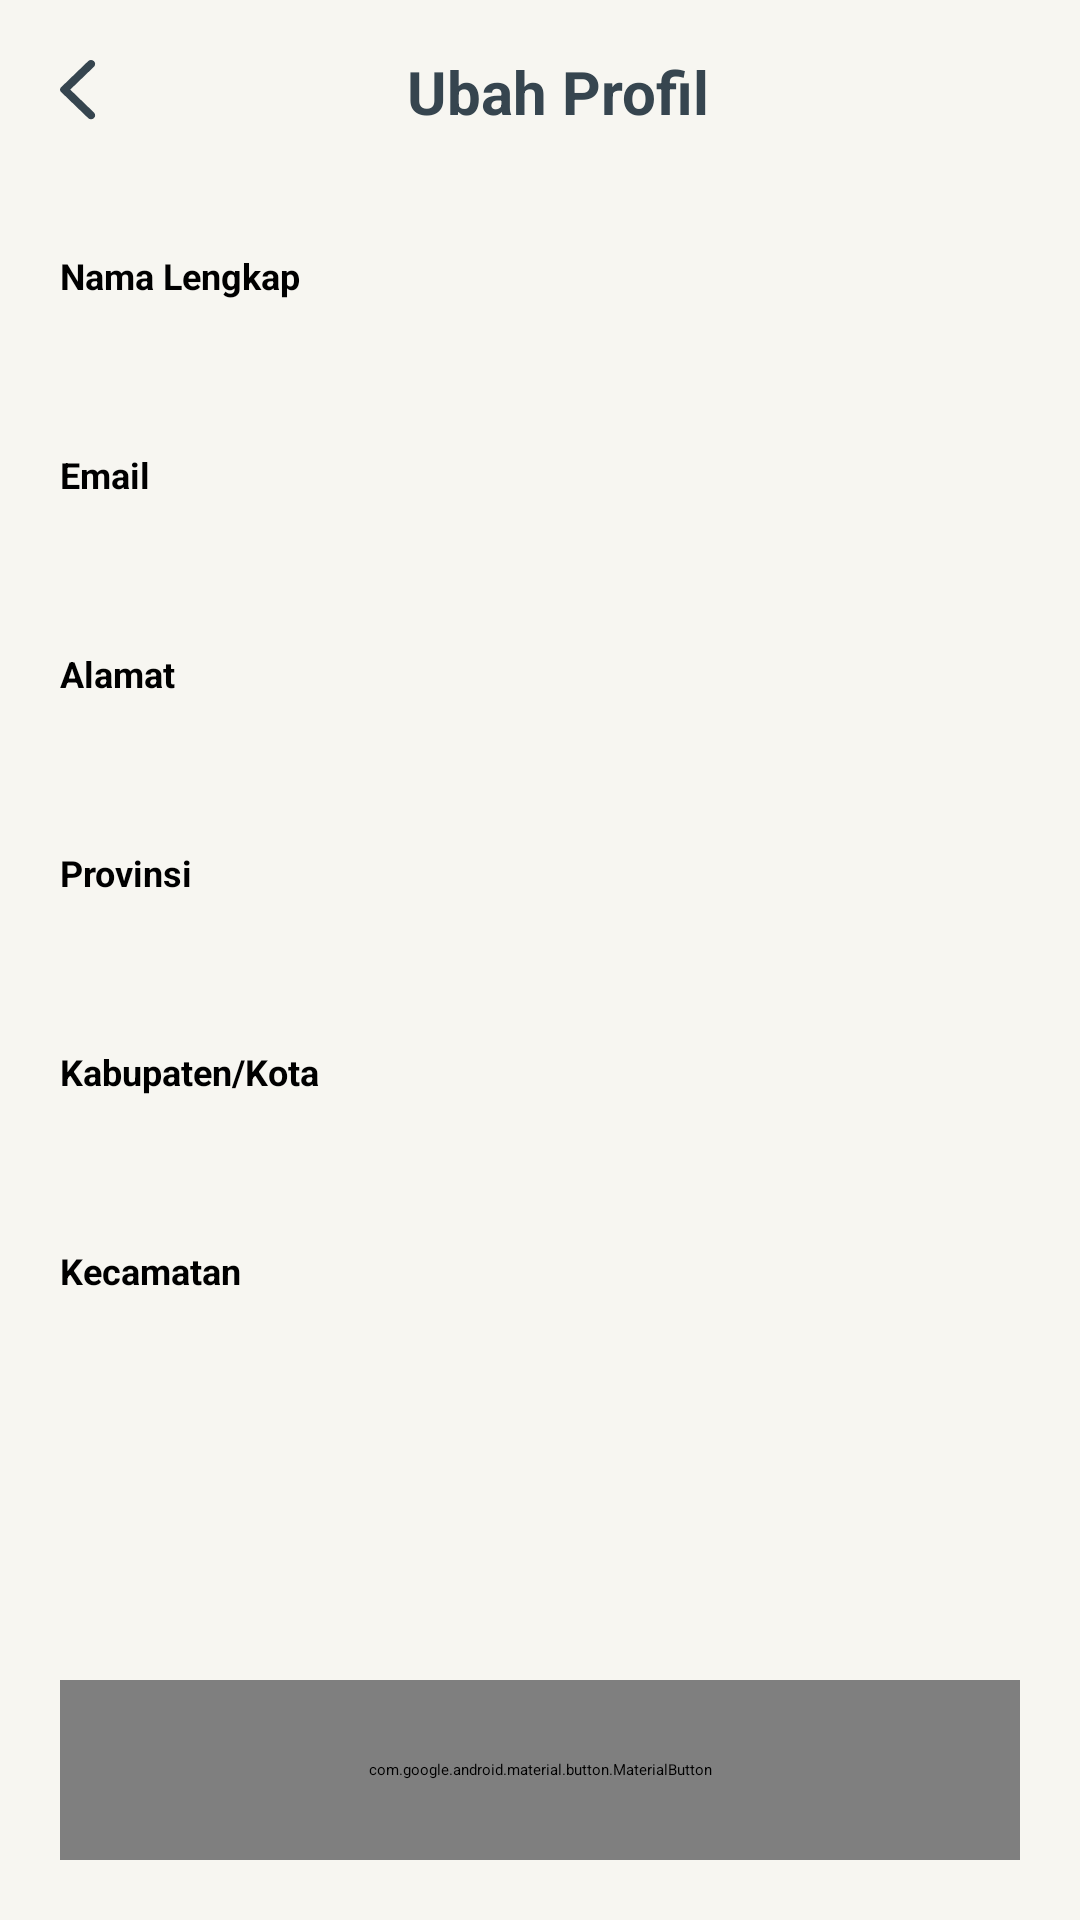

Screen size 1080 x 1920. Icon name, then its box in pixels as (x1, y1, x2, y2):
back: (60, 60, 95, 120)
